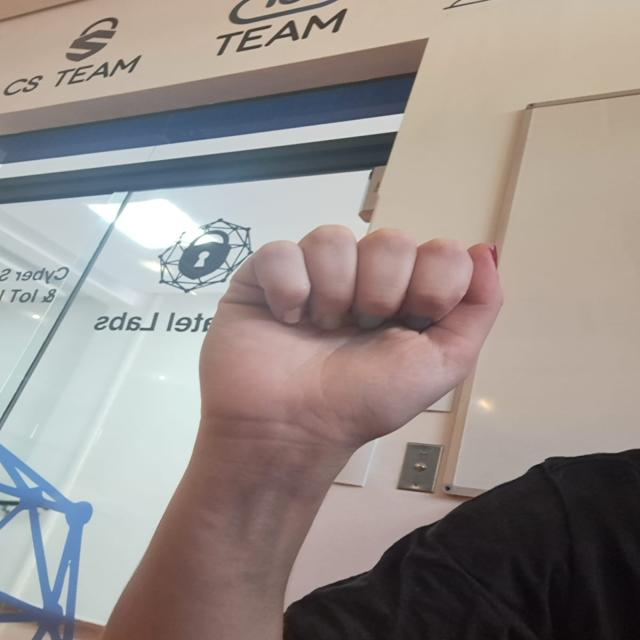A: (189, 218, 544, 470)
